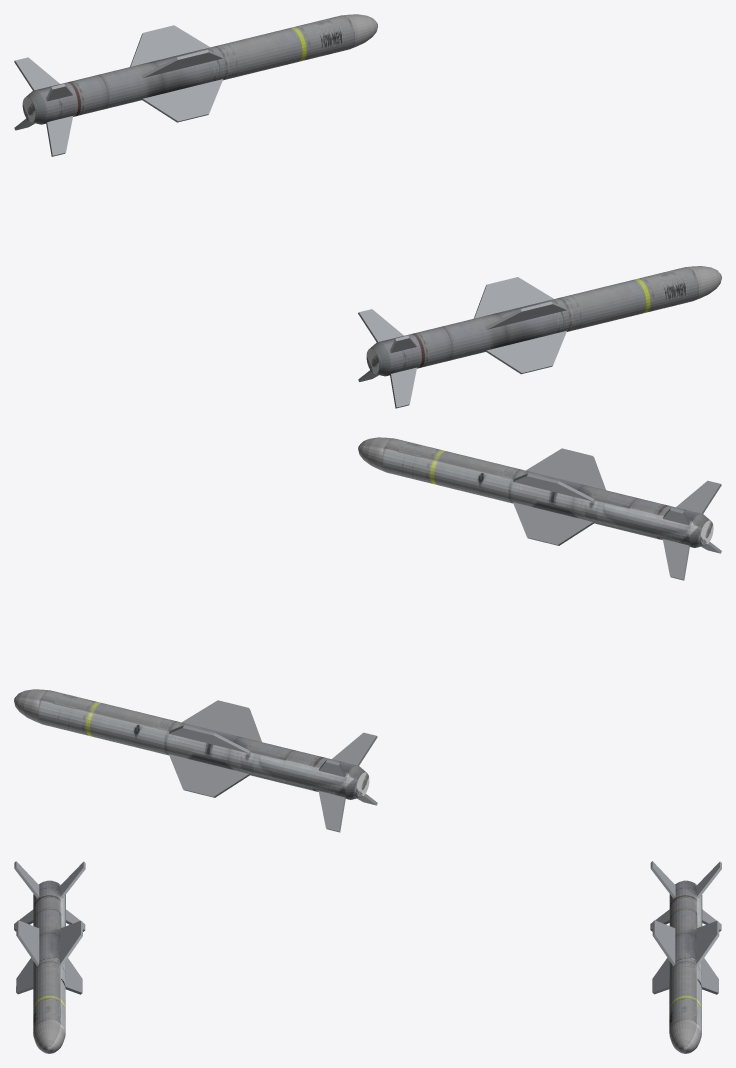
Rendered from fa18fagm8414.glb.
The picture shows the model from 3 angles, top to bottom: view 1: azimuth 30°, elevation 25°; view 2: azimuth 150°, elevation 25°; view 3: azimuth 270°, elevation 25°; orthographic projection. The views are drawn at different scales.
Parts seen in each view (by area): view 1: 立方体.004, 立方体.005; view 2: 立方体.004, 立方体.005; view 3: 立方体.004, 立方体.005.
Part boxes in pixels (x1,y1,x2,y2): 立方体.004: [14, 14, 377, 156]; 立方体.005: [358, 266, 721, 408]; 立方体.004: [14, 689, 377, 832]; 立方体.005: [358, 437, 721, 580]; 立方体.004: [650, 861, 721, 1053]; 立方体.005: [14, 861, 85, 1053].
Size of the model in its own units: 4.59 by 0.8867 by 8.75.
3 materials, 1 textured.
